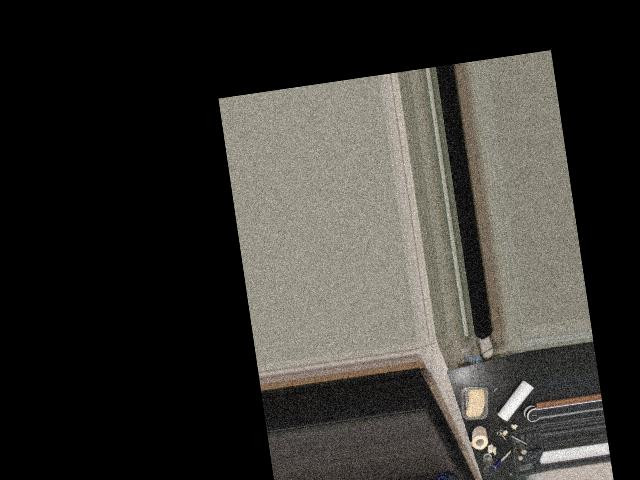cheese: (456, 380, 493, 423)
